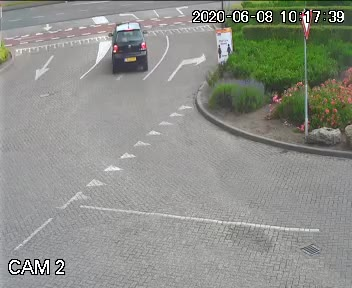car: (105, 16, 152, 84)
